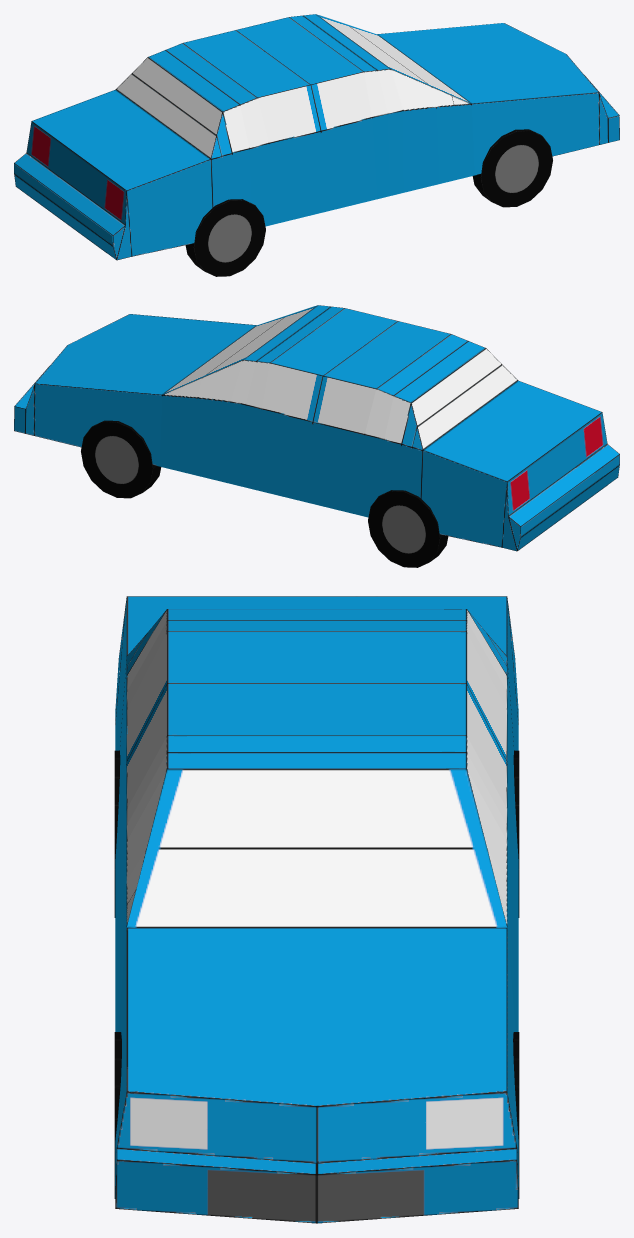
The model's file is pontiacf.fbx.
3 renders of one model, top to bottom at view 1: azimuth 30°, elevation 25°; view 2: azimuth 150°, elevation 25°; view 3: azimuth 270°, elevation 25°, orthographic. The views are drawn at different scales.
Visible parts, largest first — view 1: Pontiac, Cylinder, Cylinder.001; view 2: Pontiac, Cylinder, Cylinder.001; view 3: Pontiac, Cylinder, Cylinder.001.
Boxes of the visible parts, x1,y1,x2,y2 form: Pontiac: [14, 14, 619, 260]; Cylinder: [472, 129, 552, 207]; Cylinder.001: [185, 199, 265, 276]; Pontiac: [14, 305, 619, 551]; Cylinder: [81, 420, 161, 498]; Cylinder.001: [368, 490, 448, 567]; Pontiac: [115, 596, 518, 1223]; Cylinder: [114, 1032, 519, 1198]; Cylinder.001: [114, 750, 519, 917].
Bounding box in the file's own units: 331 × 96.84 × 111.
Materials: 3 (3 with a texture image).
